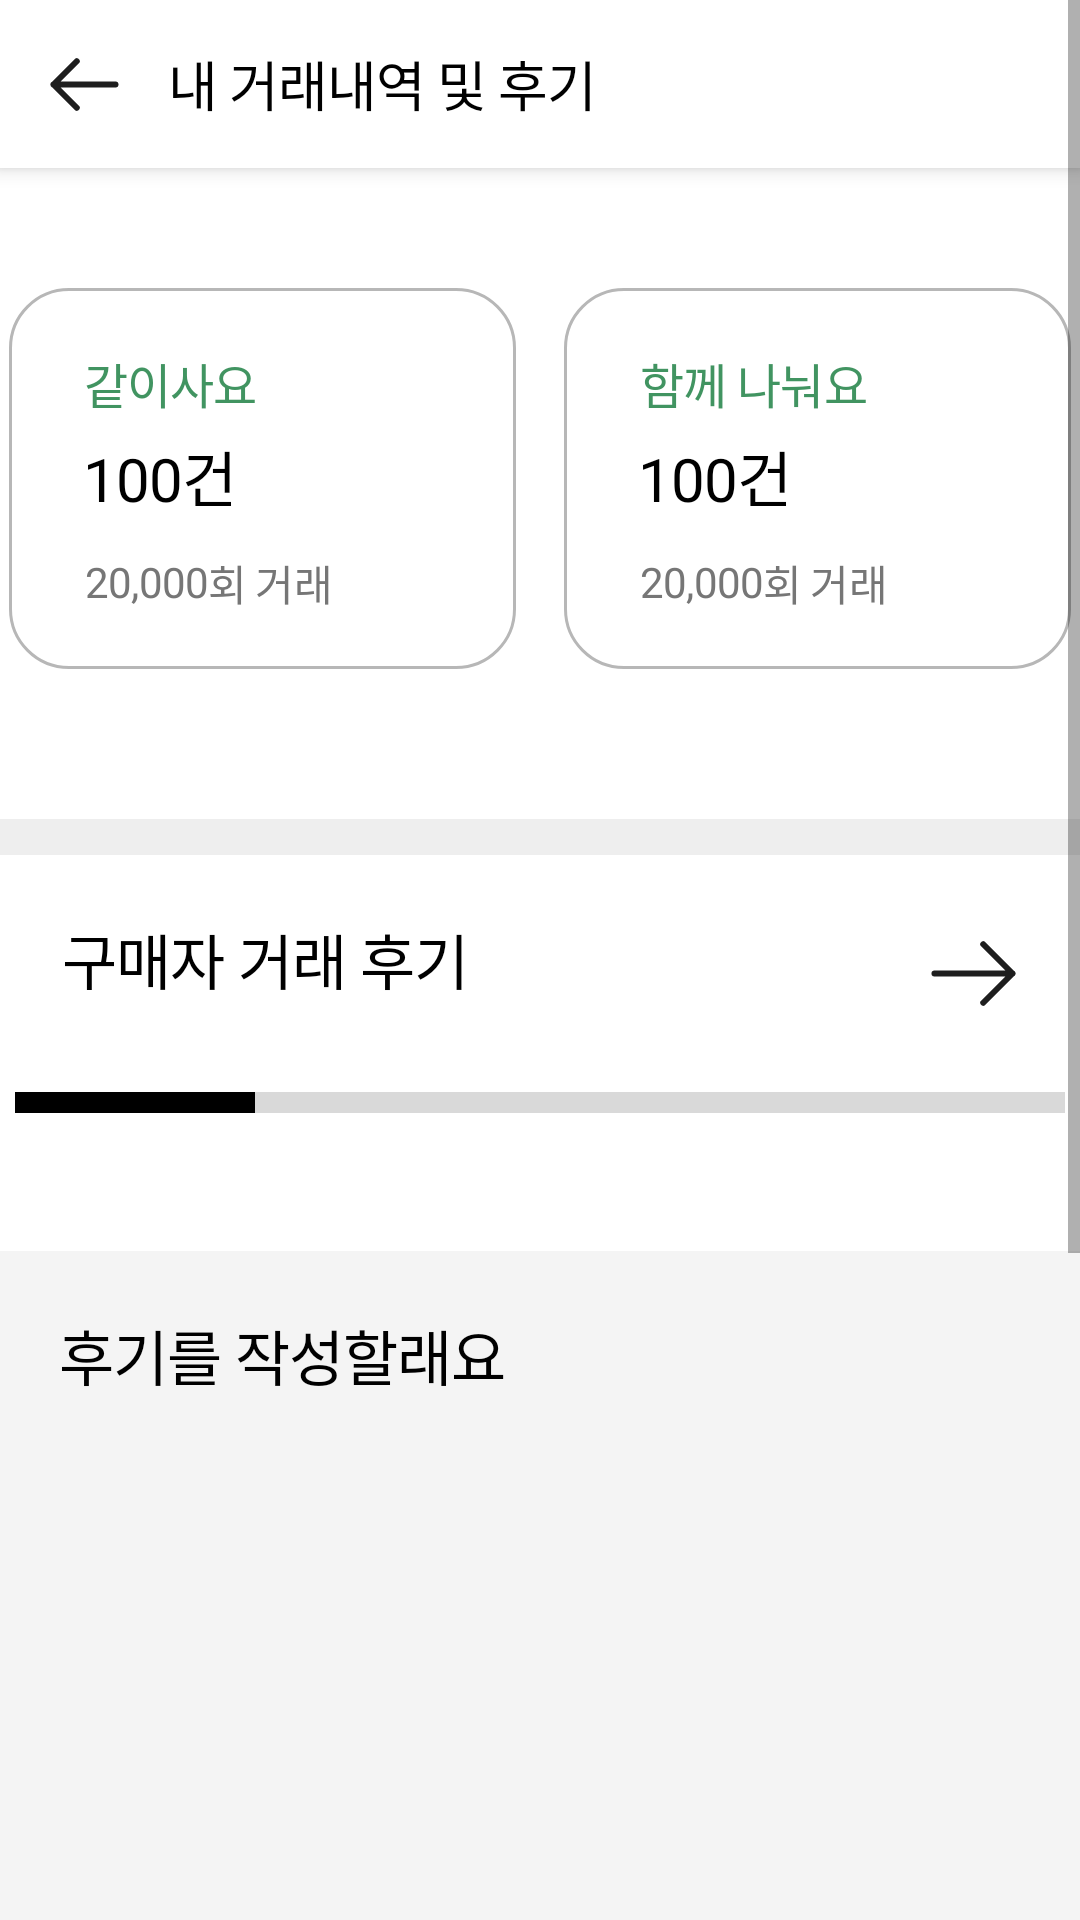

Icons on this 1080px×1920px Android screen, each with the point to tap as (x=x, y=y):
더보기: (x=973, y=973)
